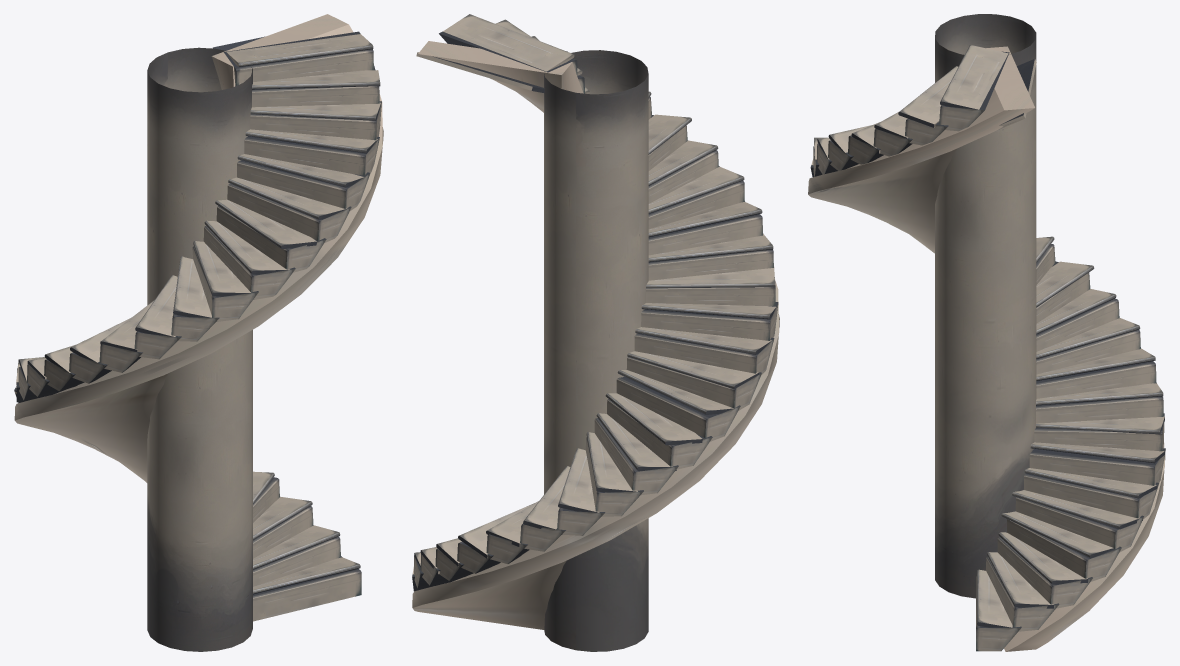
The model's file is trapmainloopable.fbx.
3 renders of one model, left to right at view 1: azimuth 30°, elevation 25°; view 2: azimuth 150°, elevation 25°; view 3: azimuth 270°, elevation 25°, orthographic. The views are drawn at different scales.
Visible parts, largest first — view 1: pCube100; view 2: pCube100; view 3: pCube100.
Part boxes in pixels (box(x1,y1,x2,y2)): pCube100: box(14, 14, 383, 651); pCube100: box(412, 14, 779, 651); pCube100: box(808, 14, 1165, 651).
Size of the model in its own units: 17.52 by 29.53 by 17.52.
